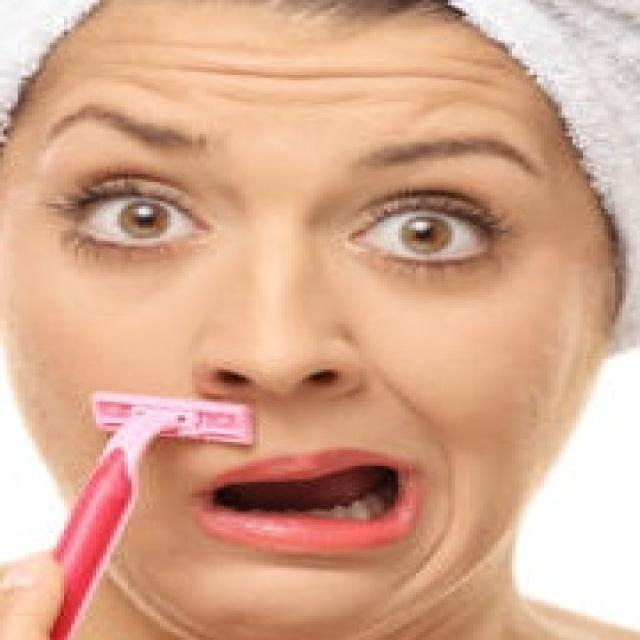Anxiety: (4, 0, 629, 637)
